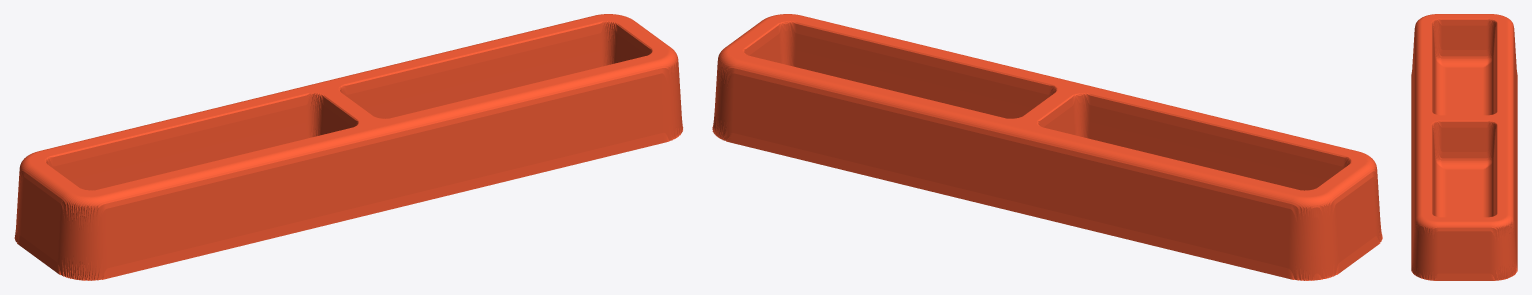
File: mold.glb
The picture shows the model from 3 angles, left to right: view 1: azimuth 30°, elevation 25°; view 2: azimuth 150°, elevation 25°; view 3: azimuth 270°, elevation 25°; orthographic projection. The views are drawn at different scales.
Visible parts, largest first — view 1: geometry_0; view 2: geometry_0; view 3: geometry_0.
Part boxes in pixels (left/top/right/bottom): geometry_0: left=14, top=14, right=683, bottom=280; geometry_0: left=712, top=14, right=1382, bottom=280; geometry_0: left=1411, top=14, right=1517, bottom=280.
Bounding box in the file's own units: 0.1721 × 0.0205 × 0.0358.
